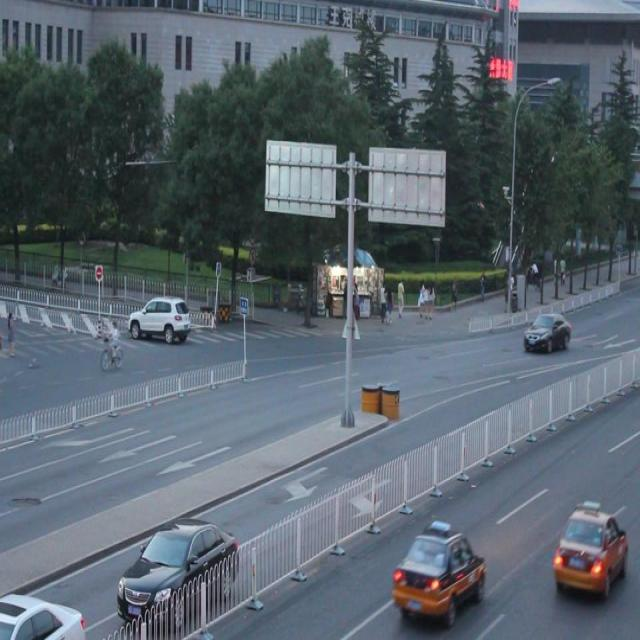car: (117, 513, 240, 625), (391, 521, 485, 625), (550, 498, 627, 600), (0, 588, 89, 640), (128, 293, 190, 343), (522, 310, 570, 354)
